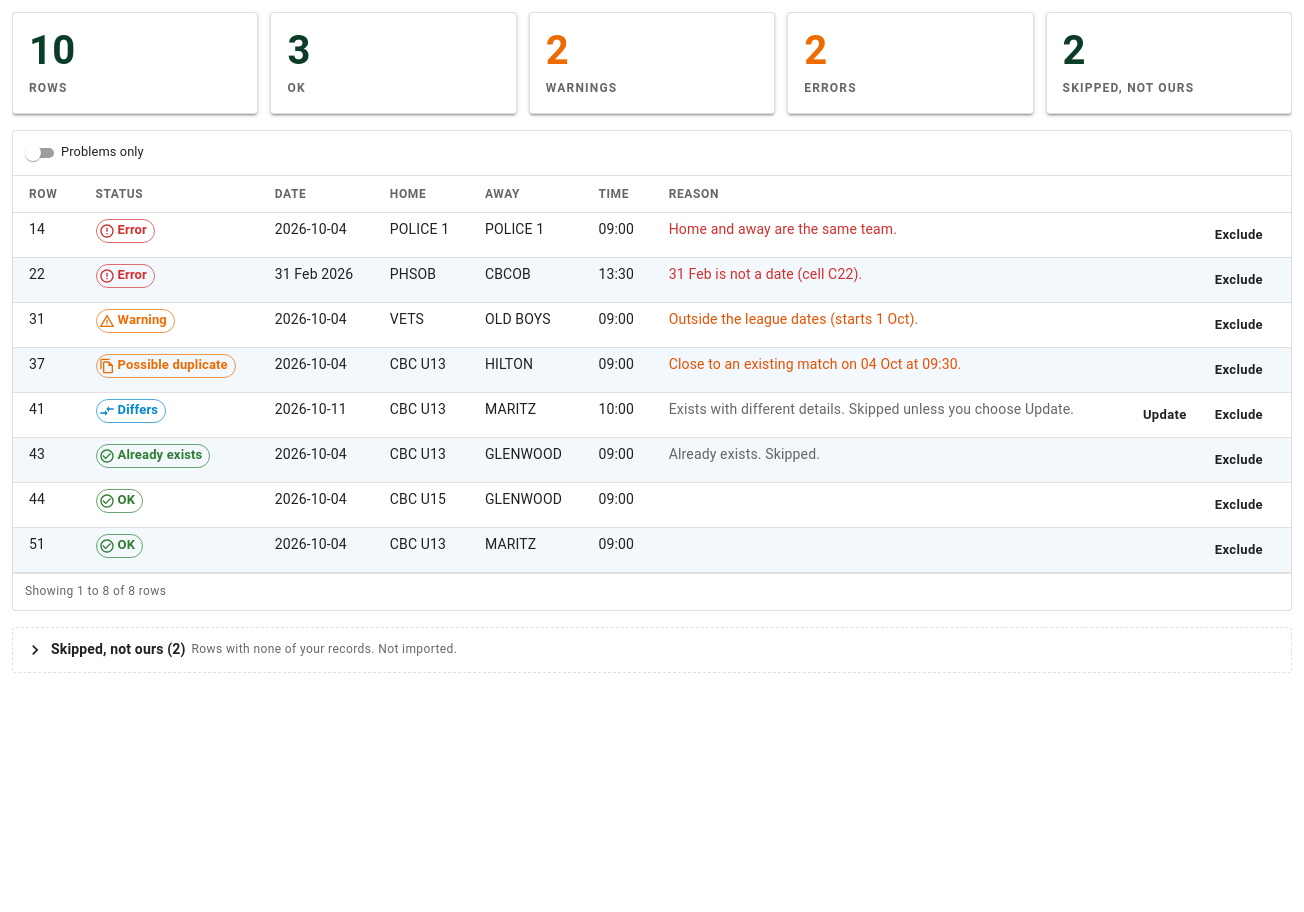
Scenario: ImportIssueTable › sends the Problems only filter to the server
Check: the row with test id "import-row-14" is shown, box [13,212,1291,257]
Click the checkbox labelled "Problems only".
click(84, 152)  # box [25,144,144,161]
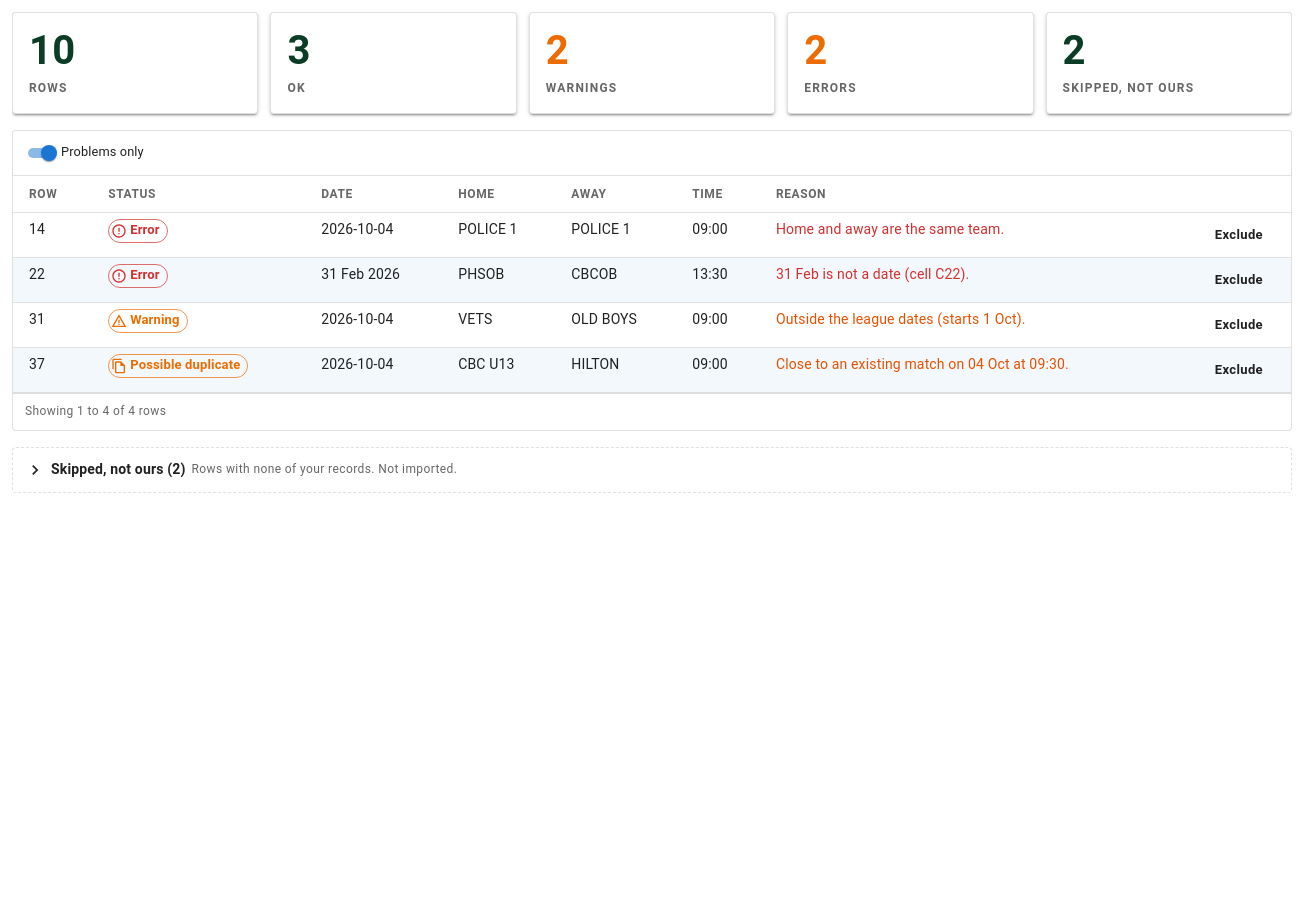
Check: the row with test id "import-row-44" is gone
